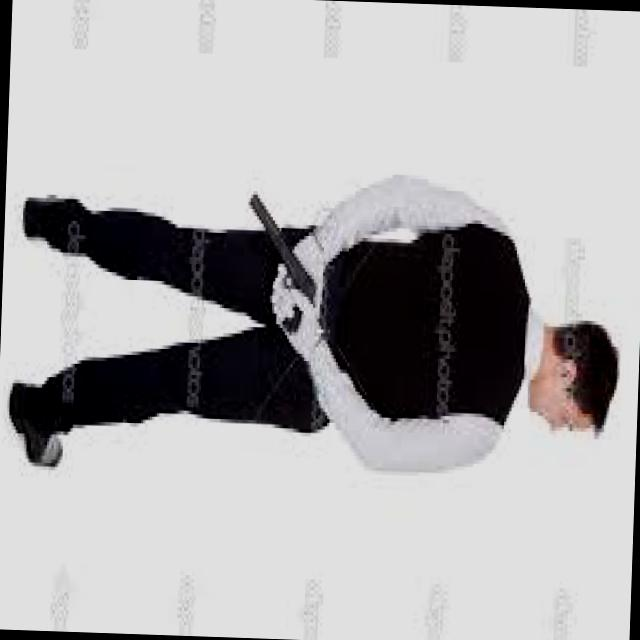handgun: (245, 183, 320, 339)
